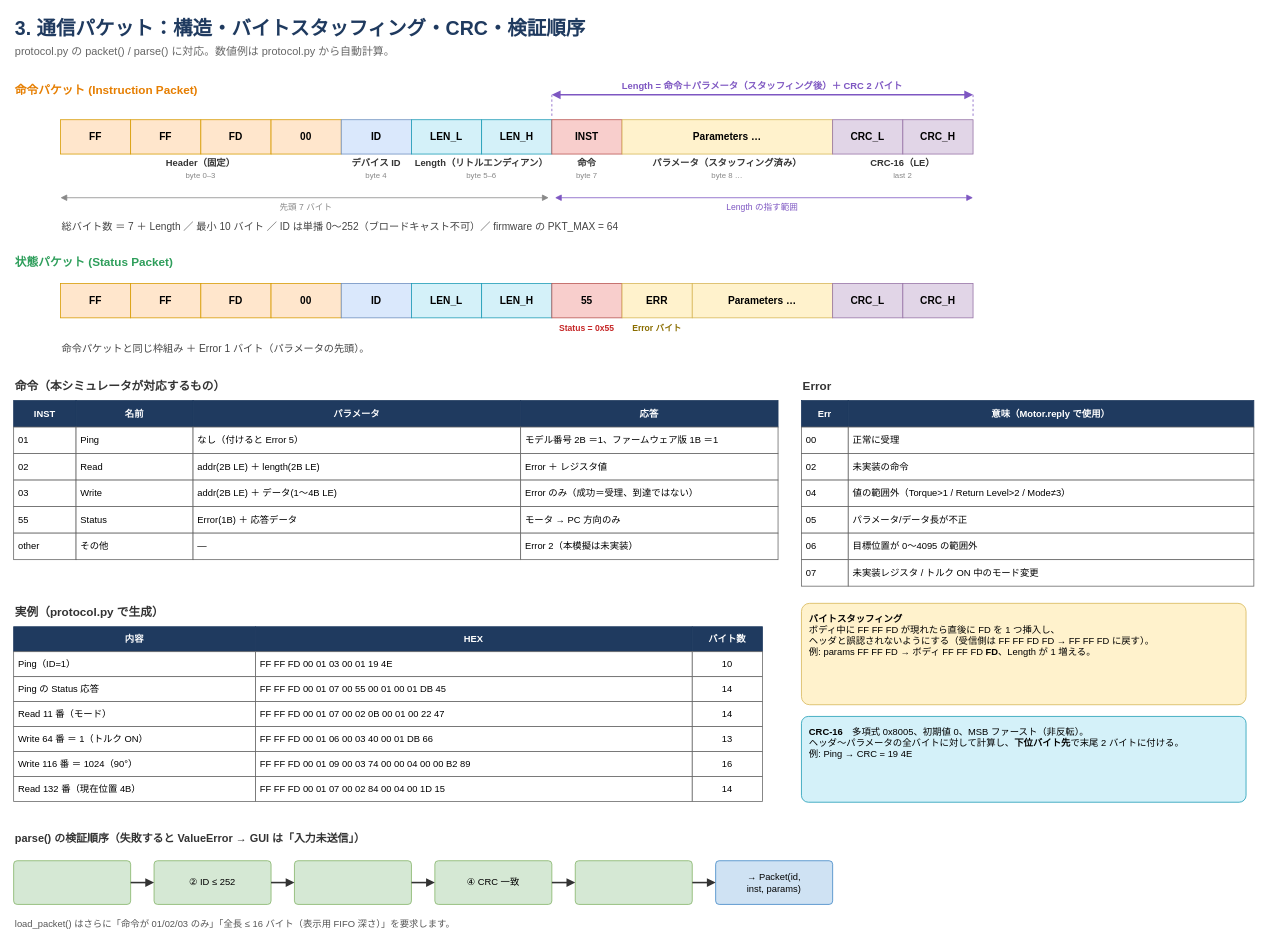
The diagram is 1271 pixels wide and 945 high, and some of its shapes have lost their labels. The shapes that lost their labels are listed below. From the top down, each one's centre as x and y in pixels, then its label:
At [72,882]: "① 長さ≥10 かつ ヘッダ FF FF FD 00".
At [352,882]: "③ Length + 7 ＝ 実バイト数".
At [633,882]: "⑤ スタッフィング が正しい".
